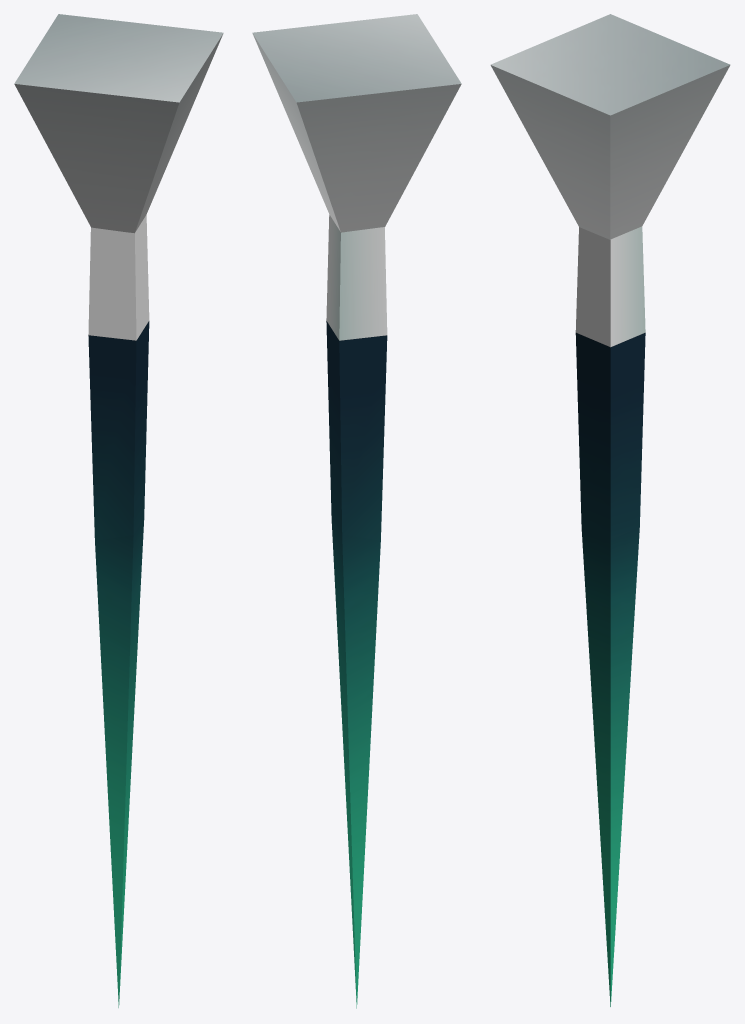
The model's file is torch.fbx.
3 renders of one model, left to right at view 1: azimuth 30°, elevation 25°; view 2: azimuth 150°, elevation 25°; view 3: azimuth 270°, elevation 25°, orthographic.
Visible parts, largest first — view 1: polySurface2; view 2: polySurface2; view 3: polySurface2.
Boxes of the visible parts, x1,y1,x2,y2 form: polySurface2: (14,14,223,1007); polySurface2: (252,14,461,1008); polySurface2: (490,14,730,1006).
Size of the model in its own units: 0.9075 by 3.94 by 0.9075.
